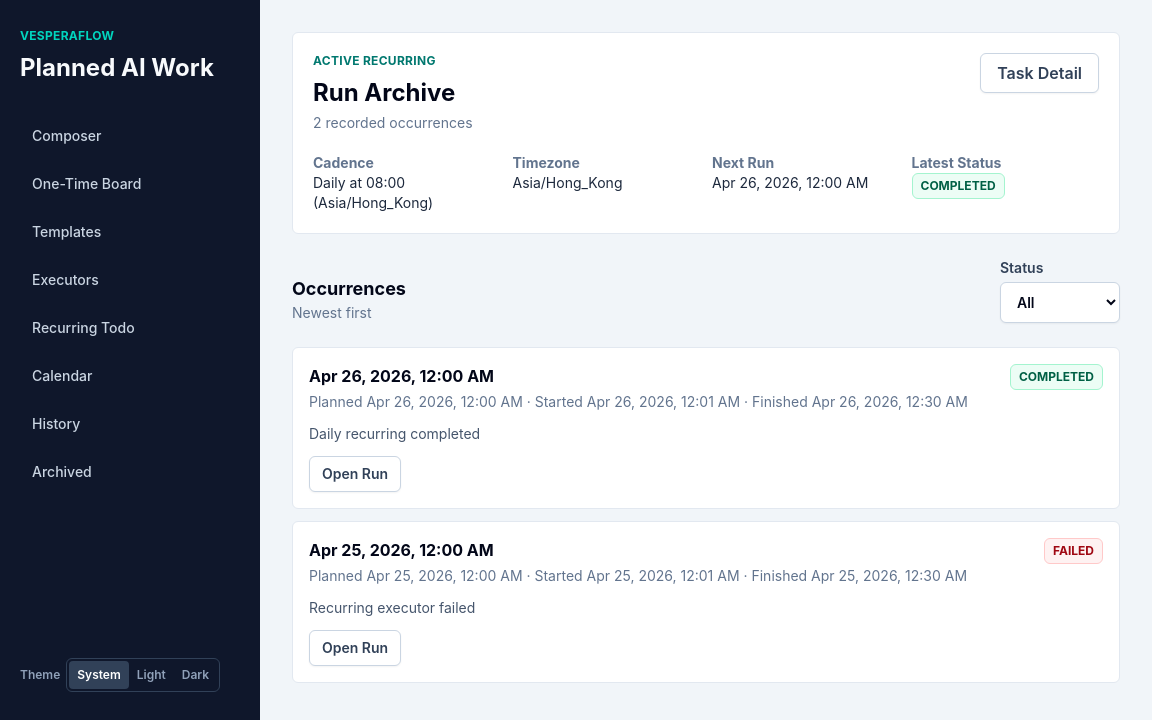
App › filters recurring run archive runs by status
The width and height of the screenshot is (1152, 720).
Select "Failed" in the dropdown labelled "Status". click: [1060, 302]
box: [1000,282,1120,323]
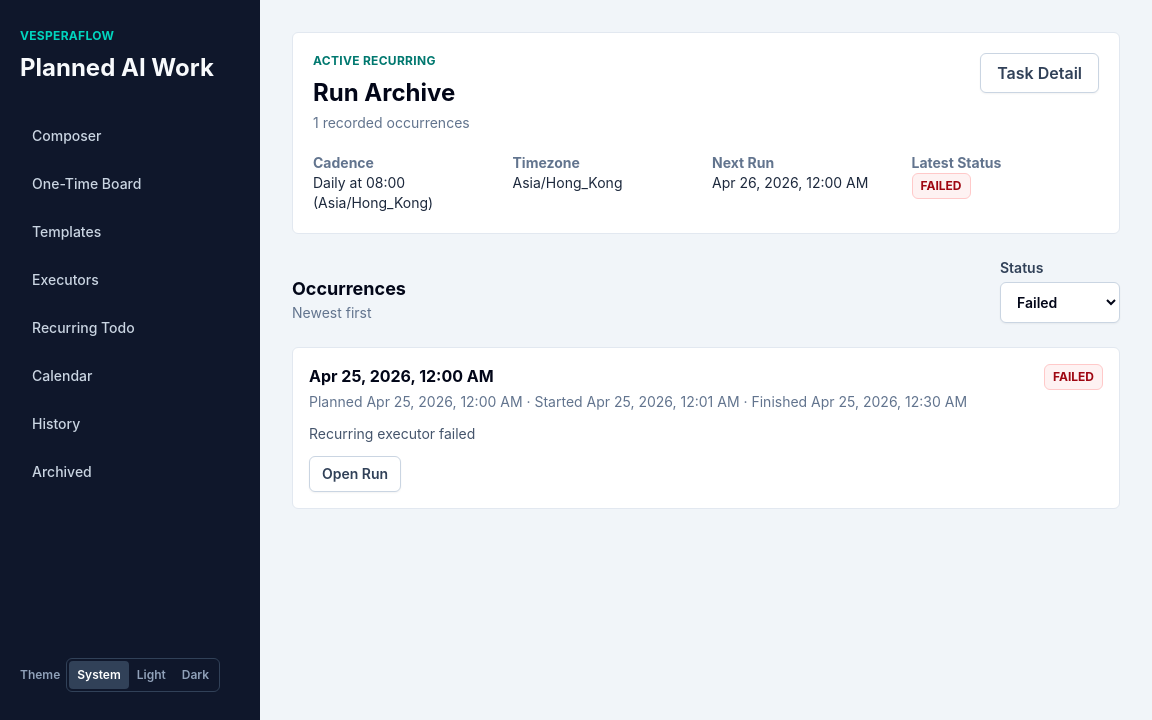
Expected: the text "Recurring executor failed" is shown, [309,425,475,442]
Now the text "Daily recurring completed" is gone
